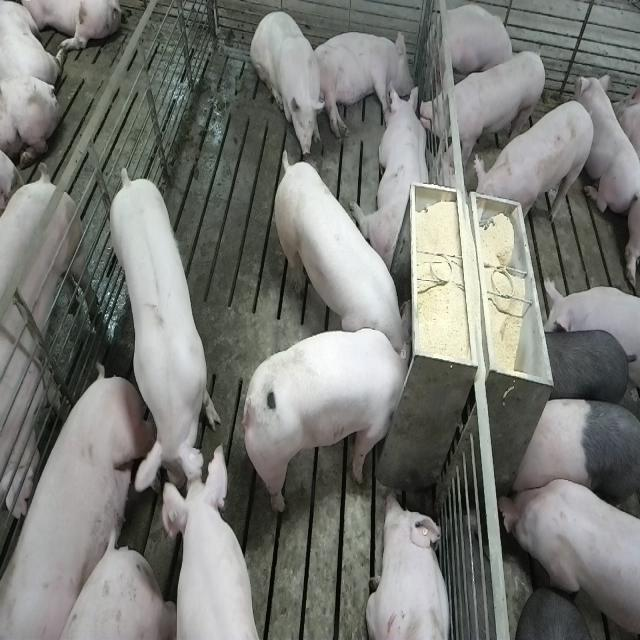Feeding: (247, 327, 420, 516), (271, 144, 409, 356)
Lateral_lying: (3, 365, 158, 640), (309, 28, 416, 140)
Sitting: (250, 7, 325, 159)
Standing: (107, 167, 221, 500), (0, 173, 98, 531), (499, 475, 638, 640), (156, 446, 260, 640), (473, 98, 597, 231), (511, 395, 638, 519), (421, 47, 548, 163), (532, 324, 638, 414)
Sternal_lying: (355, 80, 432, 266), (365, 490, 452, 640), (578, 72, 638, 223), (434, 4, 515, 86)
